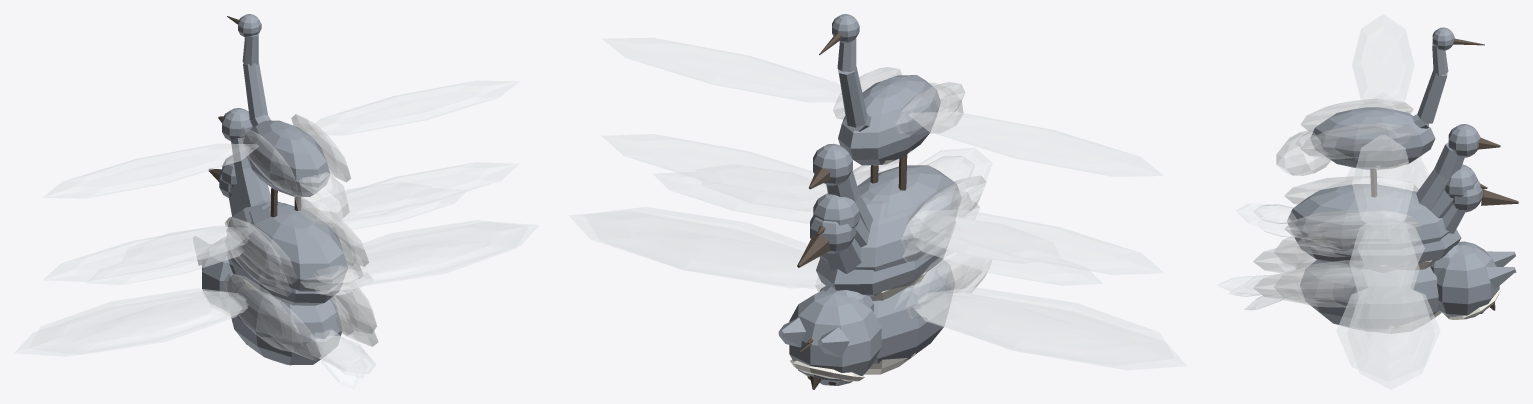
The model's file is fauna_bird.glb.
The picture shows the model from 3 angles, left to right: view 1: azimuth 30°, elevation 25°; view 2: azimuth 150°, elevation 25°; view 3: azimuth 270°, elevation 25°; orthographic projection. The views are drawn at different scales.
Parts seen in each view (by area): view 1: owl_WingL, owl_WingR, goose_Body, owl_Body, raptor_WingL, raptor_WingR, goose_WingL, crane_WingL, crane_WingR, goose_WingR, crane_Body, grouse_WingL (+30 smaller); view 2: owl_WingL, owl_WingR, raptor_WingL, raptor_WingR, goose_WingL, crane_WingL, crane_WingR, goose_WingR, crane_Body, owl_Head, owl_Body, goose_Body (+28 smaller); view 3: owl_Body, owl_WingR, crane_Body, raptor_WingR, goose_Body, goose_WingR, crane_WingR, crane_WingL, owl_Head, owl_FoldR, raptor_FoldR, duck_Body (+35 smaller).
Boxes of the visible parts, <box> form: owl_WingL: <box>28,288,246,354</box>; owl_WingR: <box>354,220,528,286</box>; goose_Body: <box>239,203,347,291</box>; owl_Body: <box>226,272,342,365</box>; raptor_WingL: <box>15,291,245,356</box>; raptor_WingR: <box>364,221,539,283</box>; goose_WingL: <box>43,226,252,281</box>; crane_WingL: <box>42,143,258,198</box>; crane_WingR: <box>305,80,519,135</box>; goose_WingR: <box>319,162,519,217</box>; crane_Body: <box>243,120,329,196</box>; grouse_WingL: <box>122,225,248,266</box>; owl_WingL: <box>917,287,1174,365</box>; owl_WingR: <box>584,207,820,285</box>; raptor_WingL: <box>913,293,1186,370</box>; raptor_WingR: <box>568,211,825,288</box>; goose_WingL: <box>916,209,1163,274</box>; crane_WingL: <box>909,112,1163,176</box>; crane_WingR: <box>602,37,842,102</box>; goose_WingR: <box>602,134,827,199</box>; crane_Body: <box>838,75,940,165</box>; owl_Head: <box>789,290,881,385</box>; owl_Body: <box>873,259,954,363</box>; goose_Body: <box>857,165,961,243</box>; owl_Body: <box>1300,259,1439,331</box>; owl_WingR: <box>1336,288,1440,381</box>; crane_Body: <box>1310,107,1435,169</box>; raptor_WingR: <box>1347,290,1434,389</box>; goose_Body: <box>1287,184,1410,251</box>; goose_WingR: <box>1349,222,1416,312</box>; crane_WingR: <box>1352,135,1414,234</box>; crane_WingL: <box>1352,14,1414,108</box>; owl_Head: <box>1436,241,1499,318</box>; owl_FoldR: <box>1274,260,1419,307</box>; raptor_FoldR: <box>1253,265,1354,303</box>; duck_Body: <box>1294,229,1461,268</box>.
Size of the model in its own units: 2.2 by 1.27 by 1.16.
